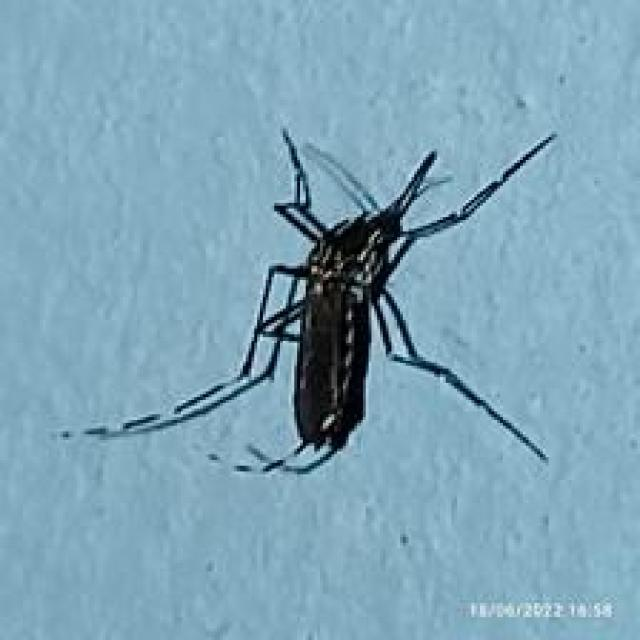Aedes albopictus: (53, 124, 558, 479)
